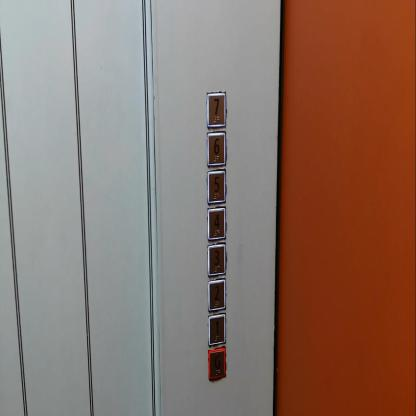1: (206, 311, 227, 348)
2: (206, 275, 227, 313)
3: (206, 242, 227, 278)
4: (206, 204, 227, 242)
5: (205, 167, 227, 205)
6: (206, 129, 227, 168)
7: (205, 88, 227, 131)
G: (206, 346, 227, 384)
